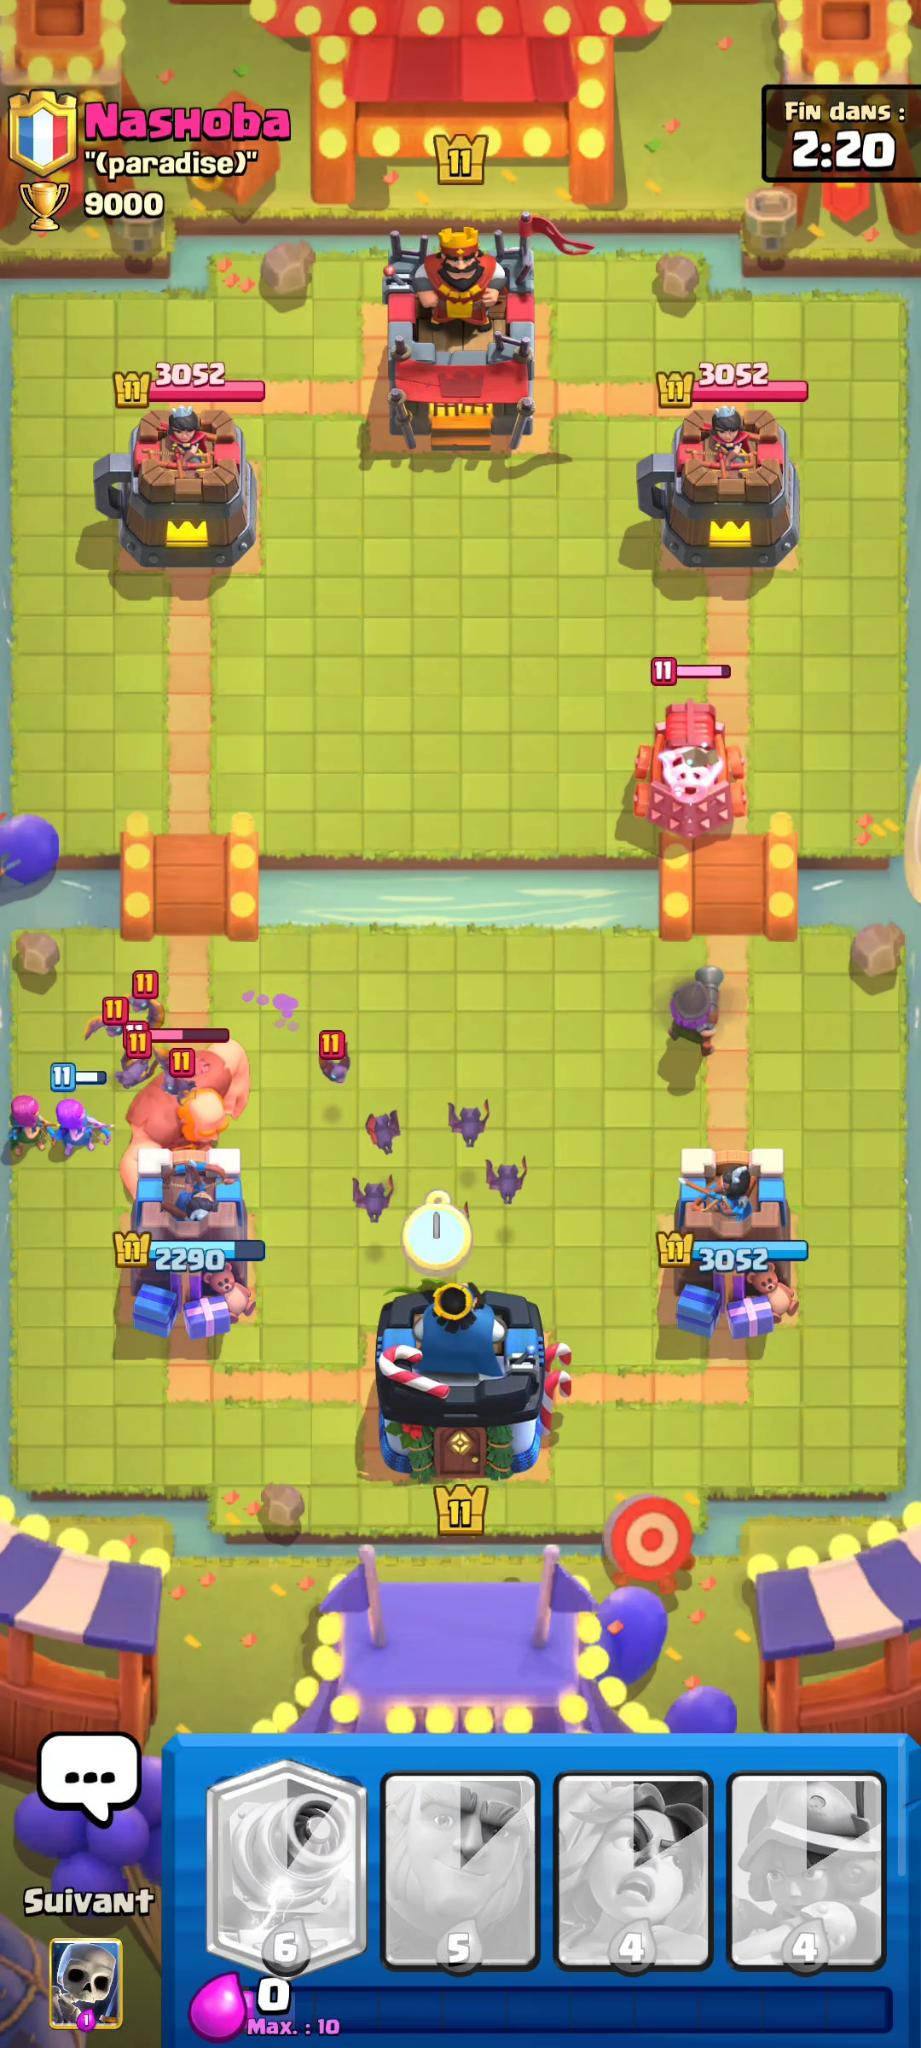archere: (0, 1091, 59, 1166), (57, 1093, 105, 1162)
bat: (349, 1170, 417, 1243), (452, 1100, 512, 1178), (426, 1198, 476, 1268), (489, 1153, 534, 1226), (307, 1032, 359, 1092), (112, 976, 166, 1027), (368, 1122, 426, 1168), (82, 1020, 150, 1048), (161, 1051, 199, 1098), (118, 1055, 159, 1092)
geant: (144, 1048, 231, 1177)
mousquetaire: (665, 965, 733, 1071)
zappy: (643, 691, 746, 822)
